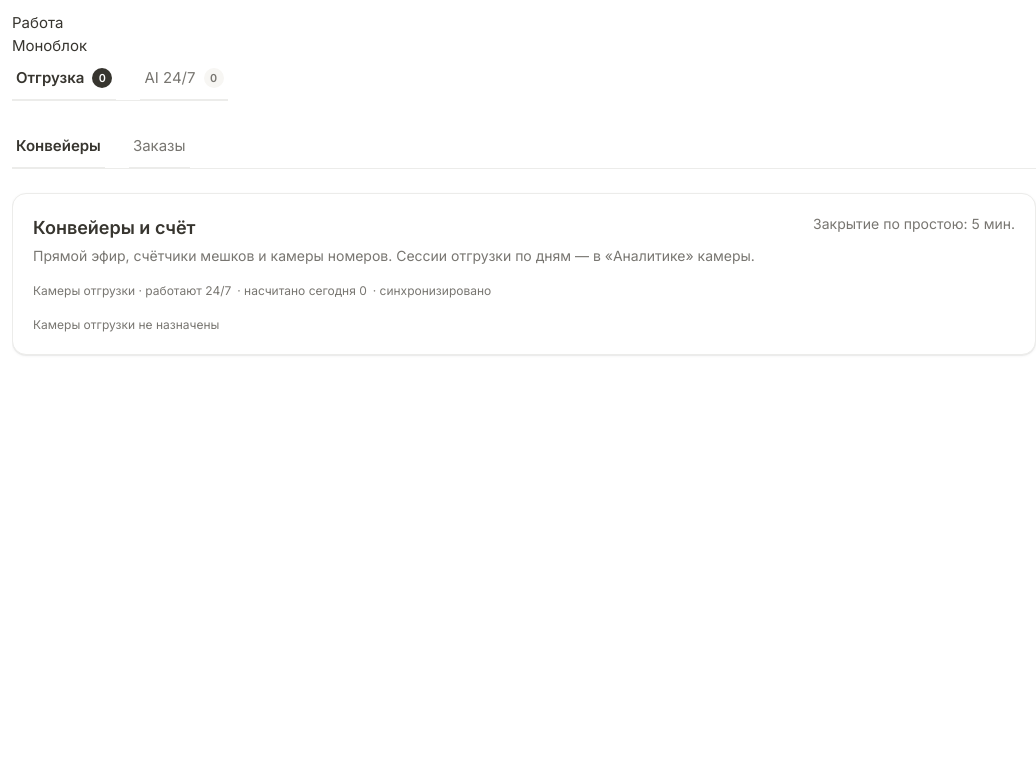
Test: гейтинг данных вкладки «Отгрузка» › одно право Моноблока видит всё и ничего не может изменить
The width and height of the screenshot is (1036, 767).
Step 1. Click the tab "Заказы" → {"x": 159, "y": 147}, box [129, 125, 190, 169]
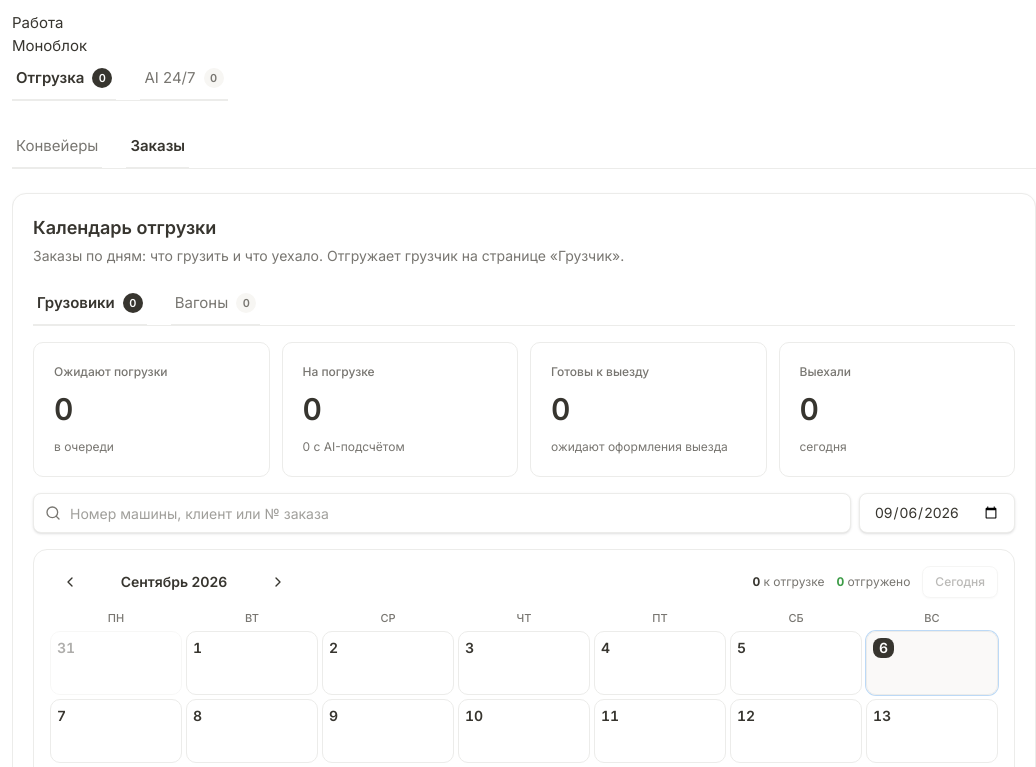
Check: the tab "AI 24/7 0" is shown, box [140, 57, 228, 101]
Check: the heading "Календарь отгрузки" is shown, box [33, 217, 216, 238]
